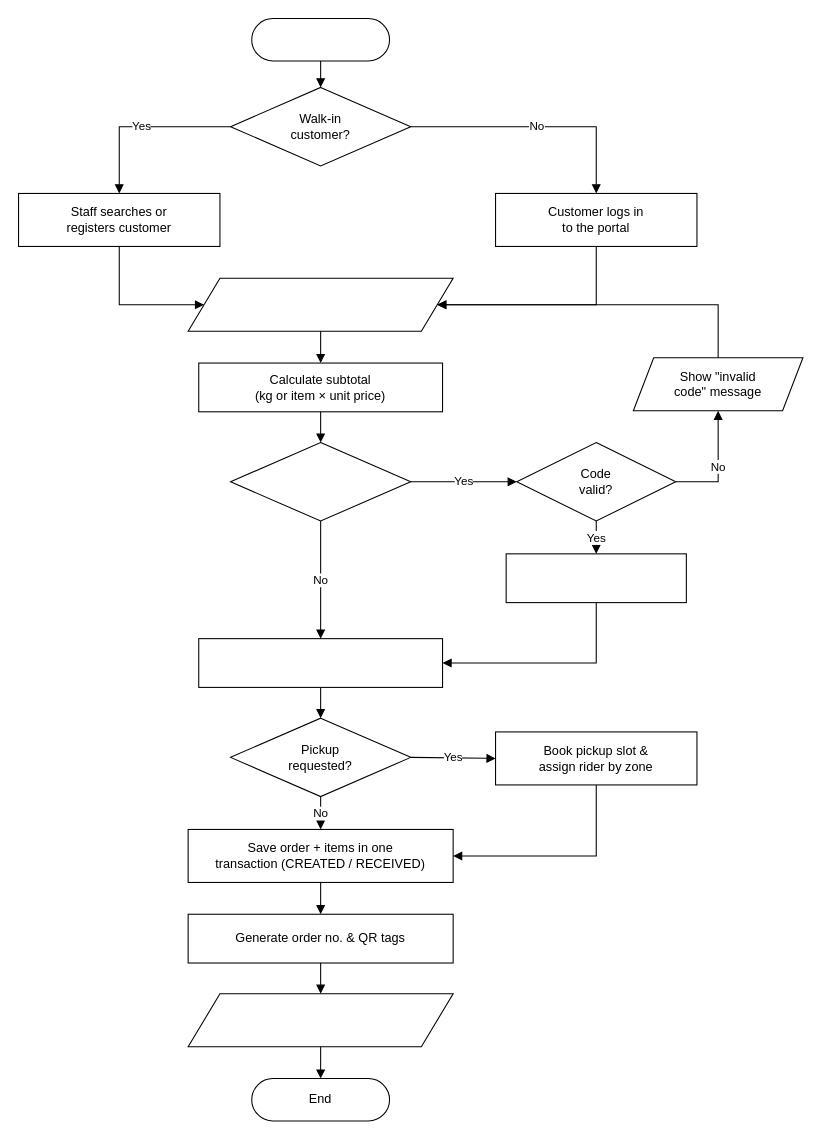
Some shapes in this 821 by 1139 pixel diagram are drawn without their labels. Each missing label, with the centre of its shape:
Apply discount: [595,578]
Calculate total amount: [320,662]
Print receipt / show confirmation & send SMS: [320,1020]
Promo code entered?: [320,481]
Select services, enter quantity / weight: [320,304]
Start: [320,39]
